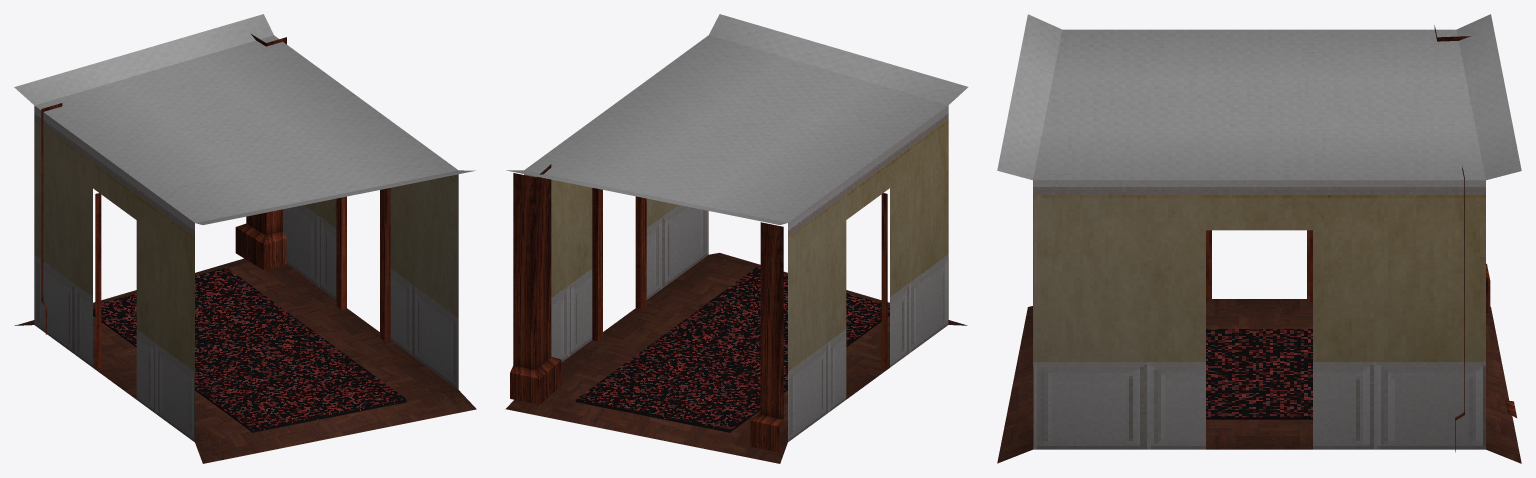
The model's file is hallway_piece.glb.
3 renders of one model, left to right at view 1: azimuth 30°, elevation 25°; view 2: azimuth 150°, elevation 25°; view 3: azimuth 270°, elevation 25°, orthographic. The views are drawn at different scales.
Visible parts, largest first — view 1: hallway piece, carpet, pillars; view 2: hallway piece, carpet, pillars; view 3: hallway piece, carpet, pillars.
Part boxes in pixels (x1=…): hallway piece: x1=14, y1=14, x2=476, y2=463; carpet: x1=93, y1=267, x2=406, y2=432; pillars: x1=41, y1=34, x2=286, y2=334; hallway piece: x1=505, y1=14, x2=968, y2=463; carpet: x1=575, y1=267, x2=889, y2=432; pillars: x1=510, y1=164, x2=783, y2=452; hallway piece: x1=997, y1=14, x2=1521, y2=463; carpet: x1=1206, y1=329, x2=1312, y2=419; pillars: x1=1434, y1=25, x2=1516, y2=452.
Size of the model in its own units: 3.13 by 2.72 by 4.41.
Materials: 5 (5 with a texture image).
